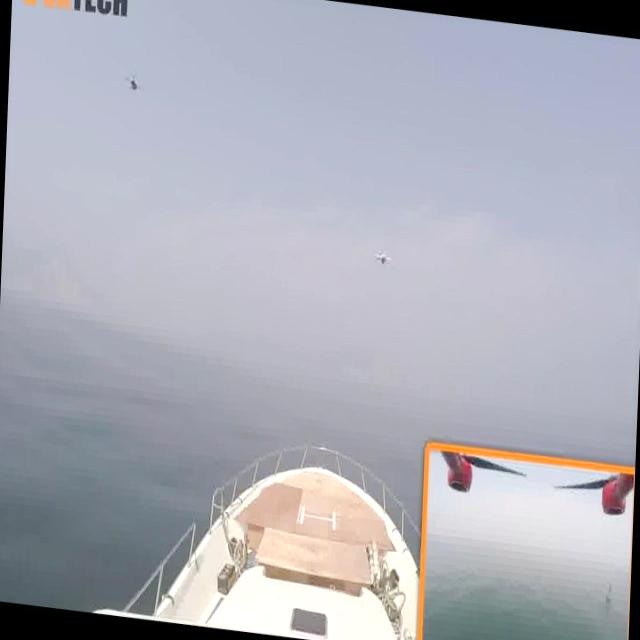drone: (365, 233, 399, 275), (117, 65, 146, 100)
